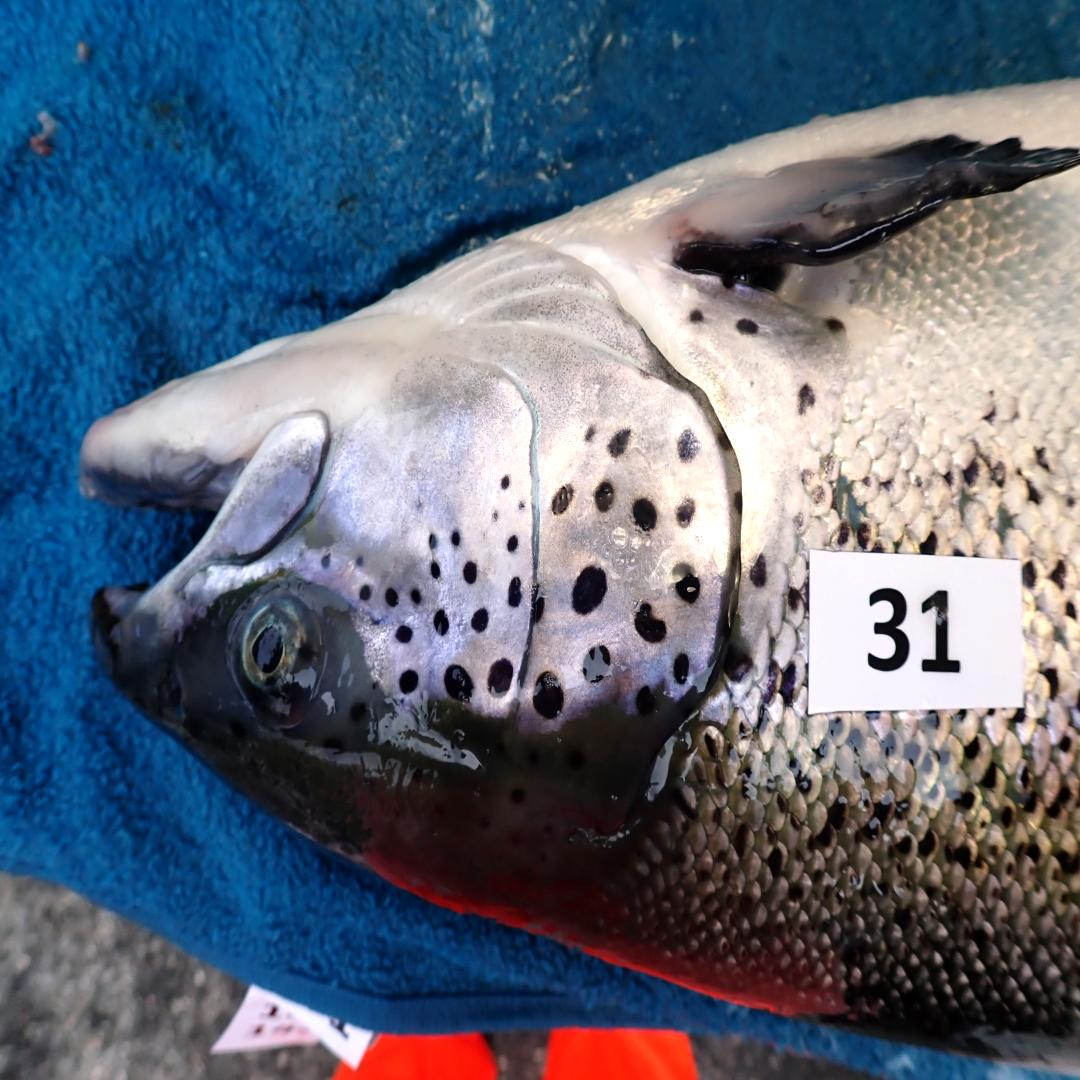roi: (332, 241, 743, 737)
